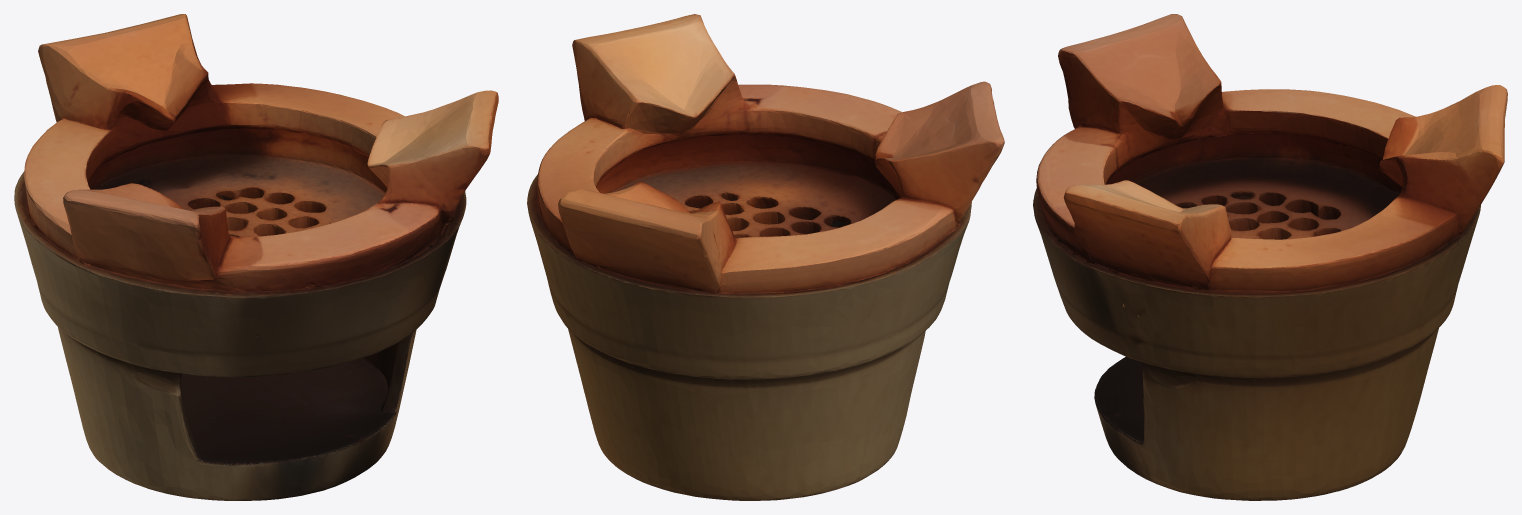
File: BepCui.glb
3 views of the same model, side by side, from view 1: azimuth 30°, elevation 25°; view 2: azimuth 150°, elevation 25°; view 3: azimuth 270°, elevation 25° (orthographic).
Parts seen in each view (by area): view 1: world; view 2: world; view 3: world.
Boxes of the visible parts, box(x1,y1,x2,y2) form: world: box(14, 14, 498, 500); world: box(527, 14, 1004, 500); world: box(1033, 14, 1507, 500).
Bounding box in the file's own units: 0.9947 × 0.7125 × 0.9494.
Materials: 1 (1 with a texture image).
